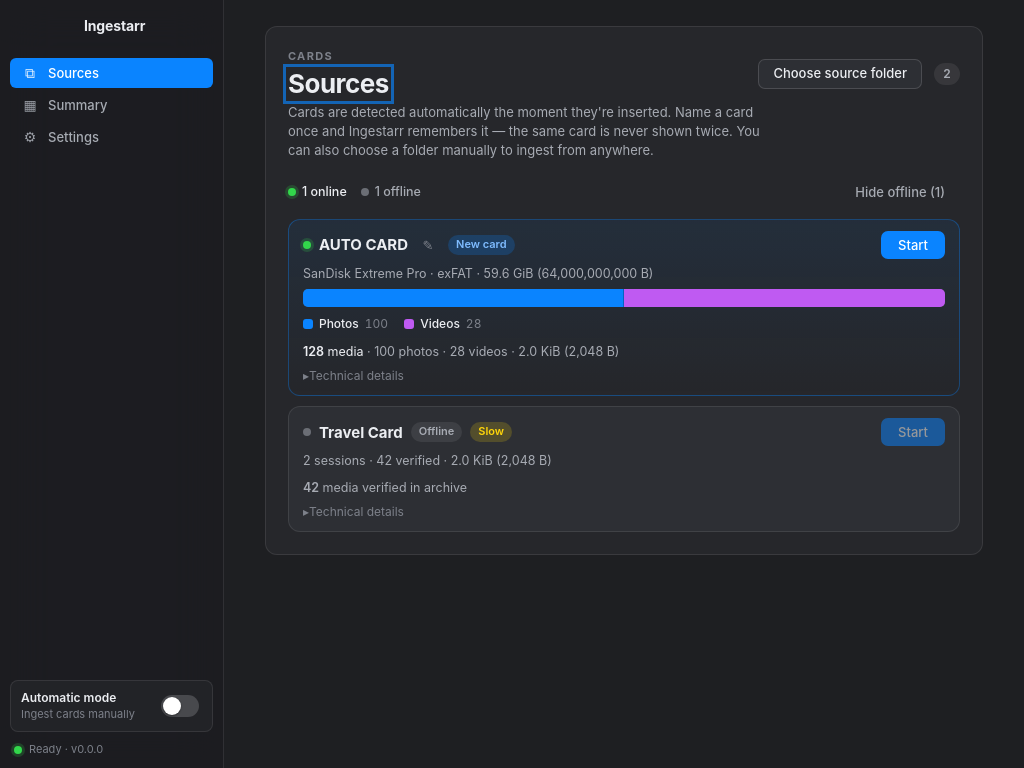
manual folder ingest flow › keeps accessible navigation across all six screens and handles detected cards
Check: the navigation bar named "primary" is shown, box [0, 0, 224, 767]
Check: the heading "Sources" is shown, box [288, 69, 389, 99]
Note: "Start" on a detected card goes straight to review — no confusing confirmation modal.
Click the button "Start" in the row of "New card" at (913, 245), box [881, 231, 945, 259]
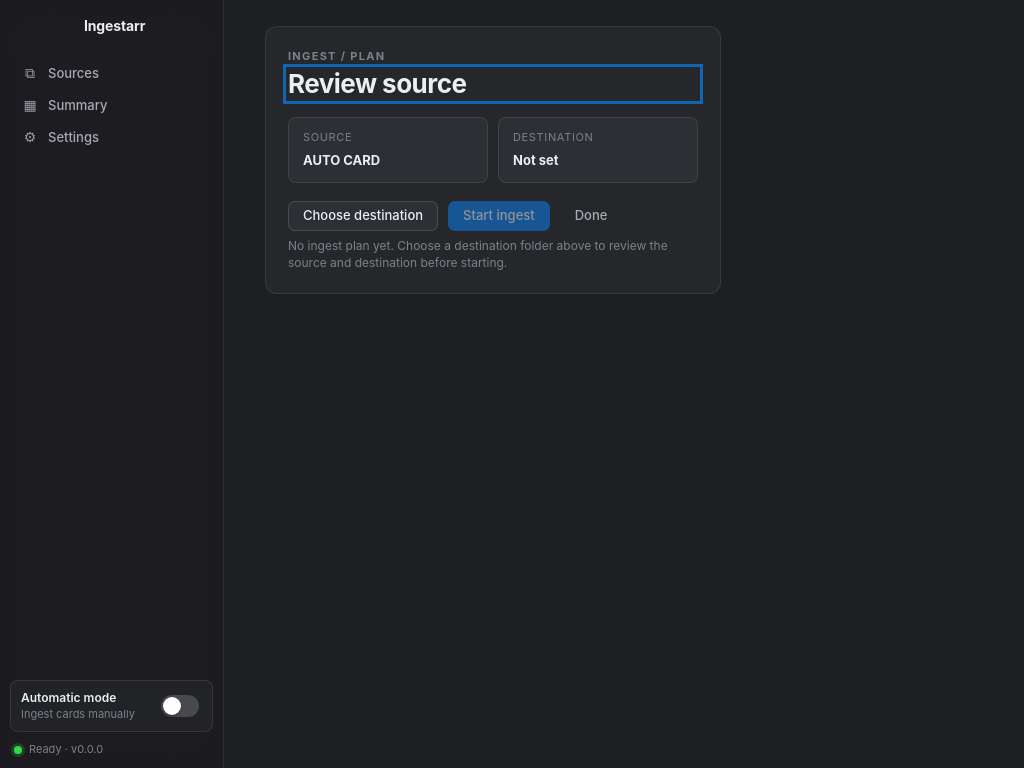
Check: the heading "Review source" is shown, box [288, 68, 466, 99]
Click the button "⧉ Sources" at (112, 73), box [10, 58, 213, 88]
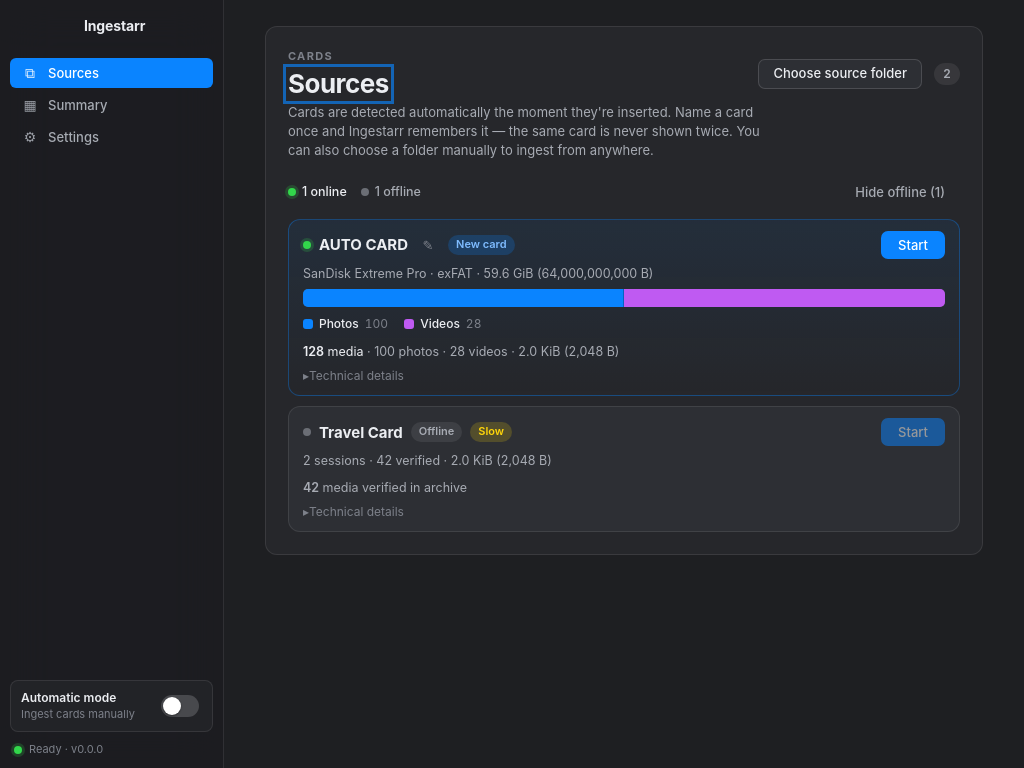
Check: the heading "Sources" is shown, box [288, 69, 389, 99]
Click the button "⚙ Settings" at (112, 137), box [10, 122, 213, 152]
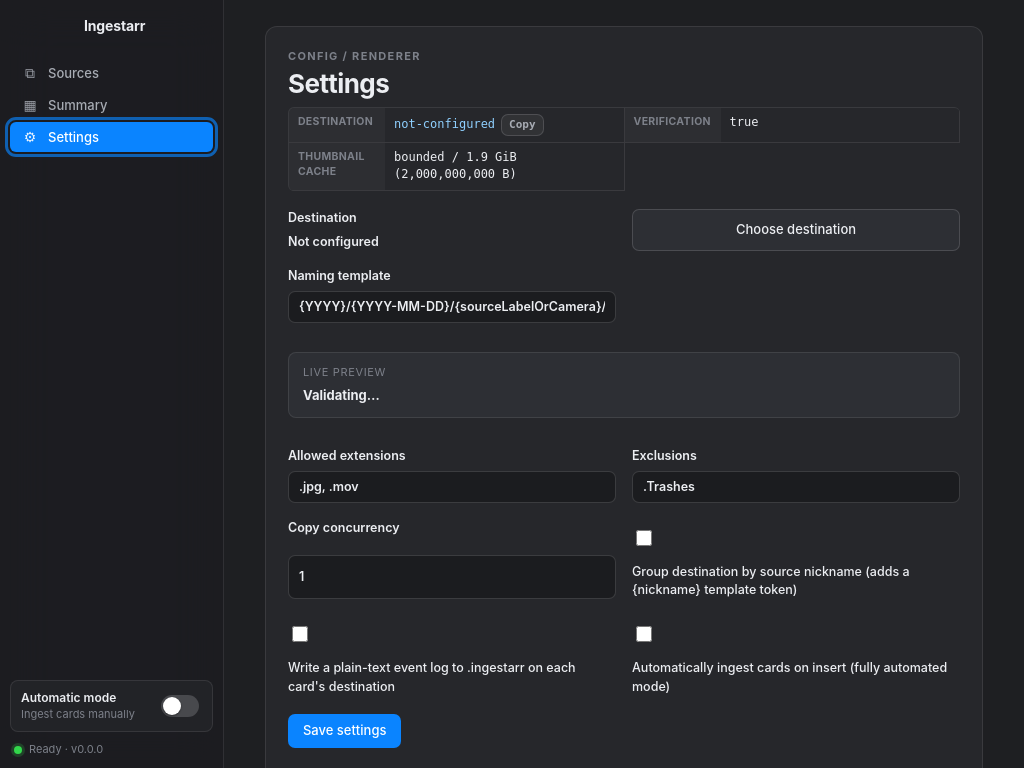
Check: the heading "Settings" is shown, box [288, 68, 389, 99]
Click the button "▦ Summary" at (112, 105), box [10, 90, 213, 120]
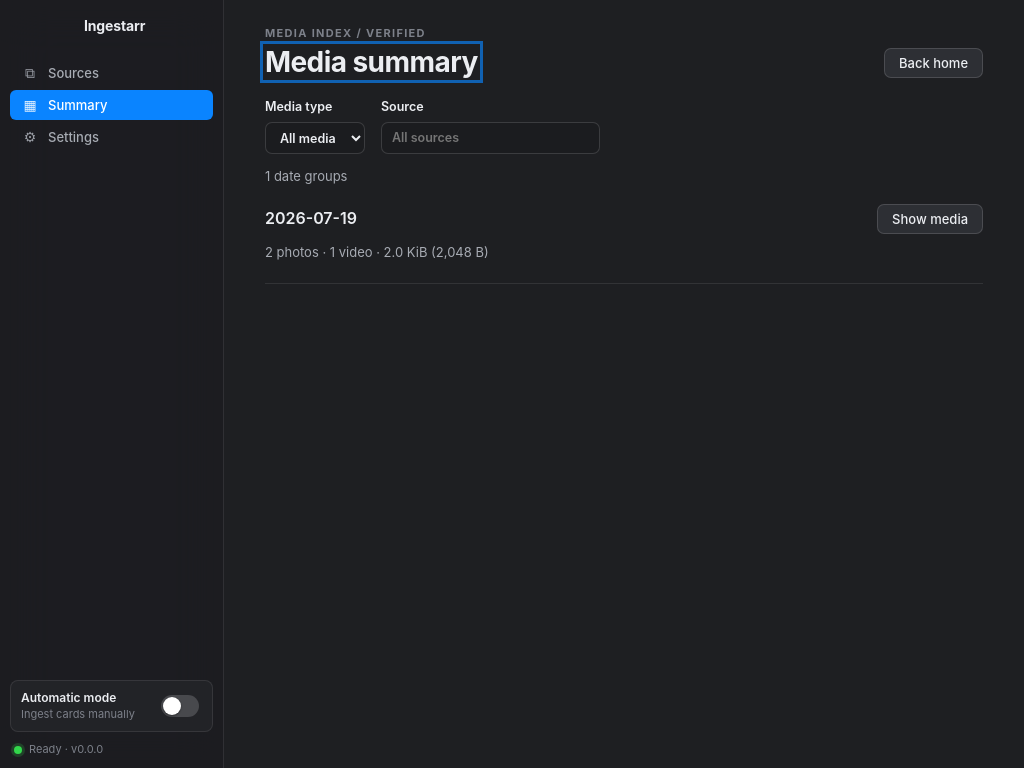
Check: the heading "Media summary" is shown, box [265, 46, 478, 78]
